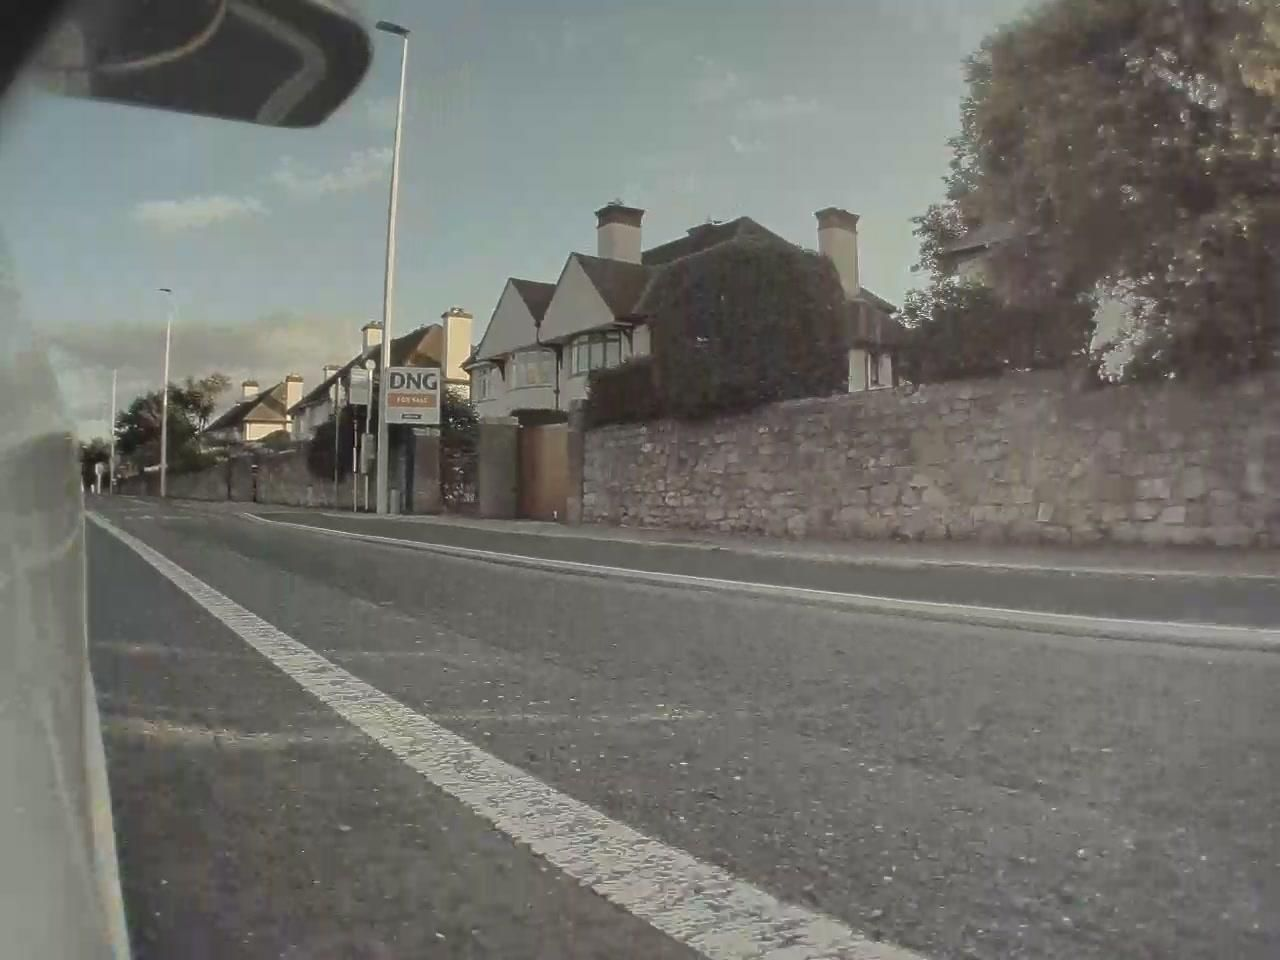property sign: (373, 346, 450, 438)
